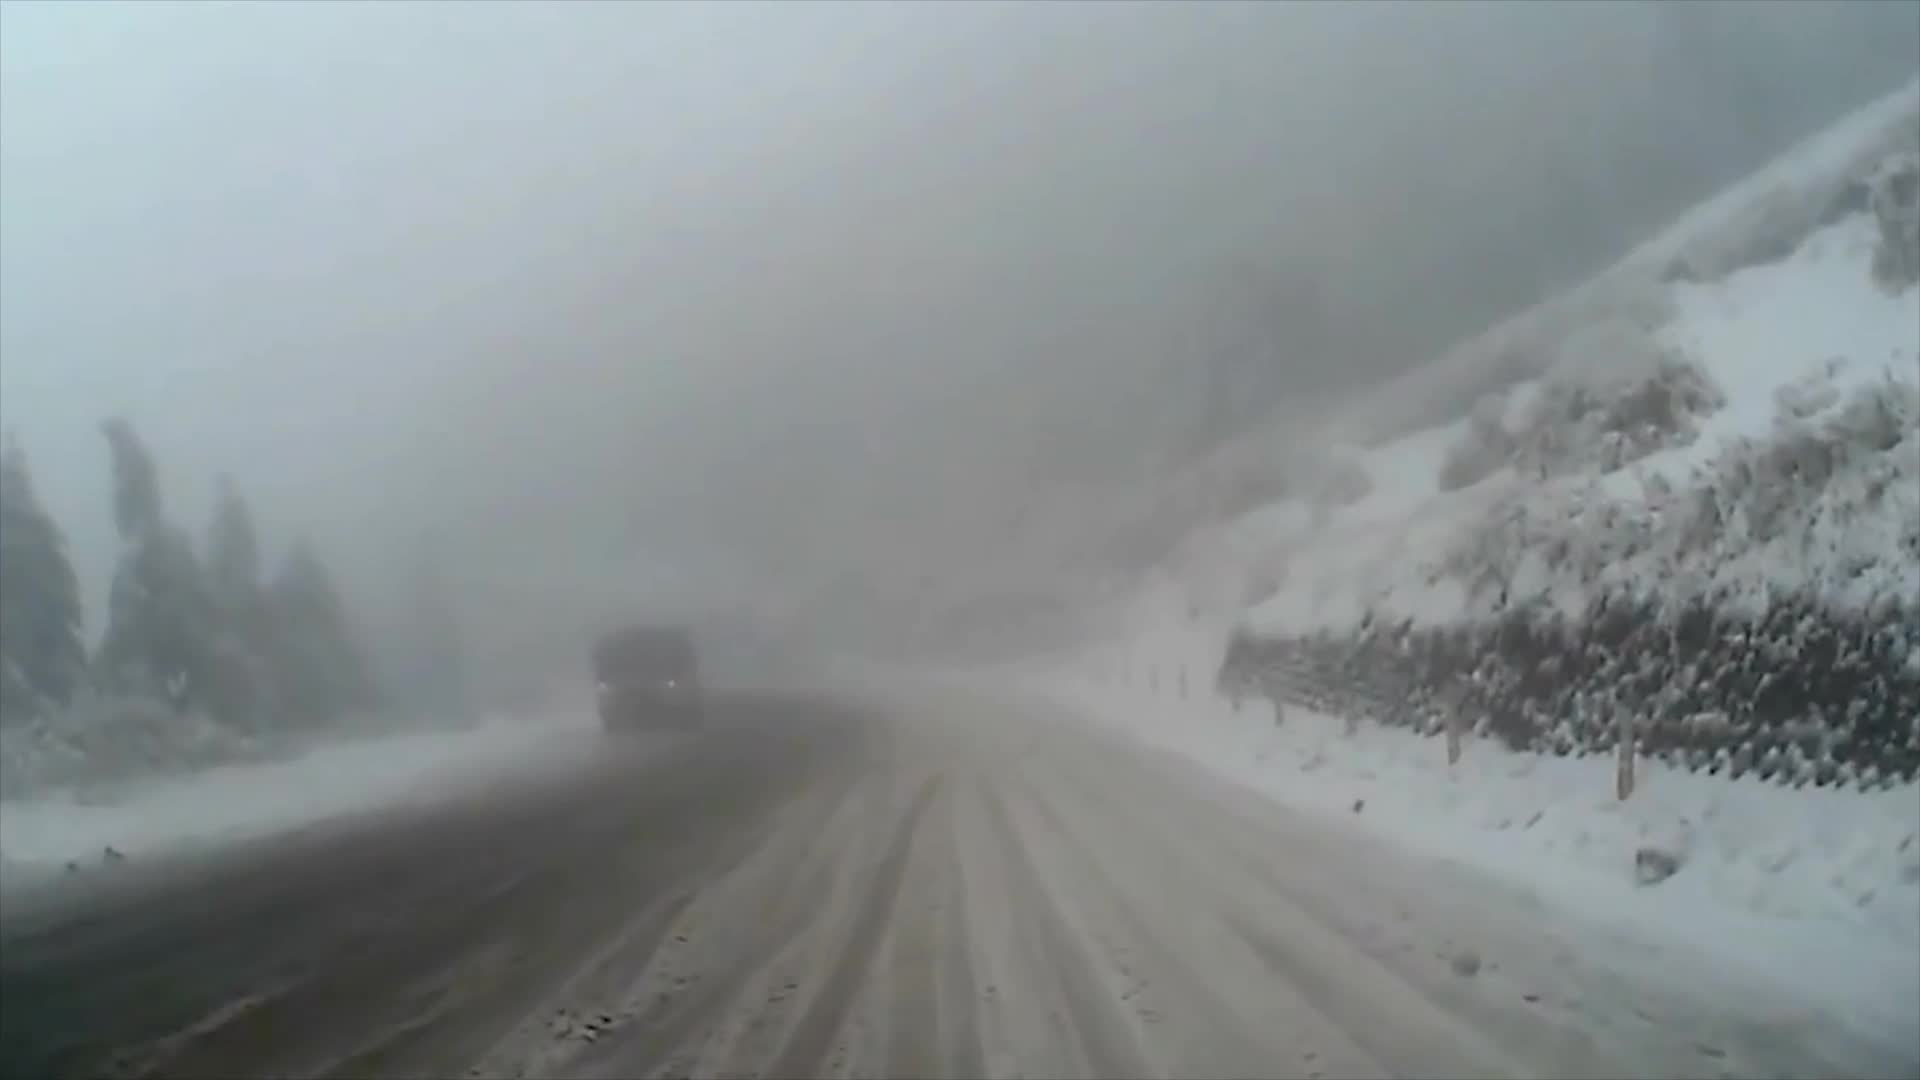vehicle: (585, 626, 700, 731)
